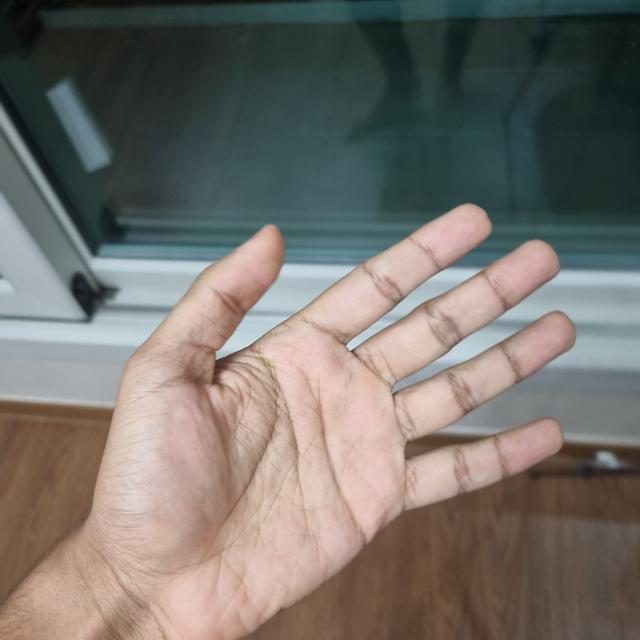Paper: (93, 211, 575, 637)
